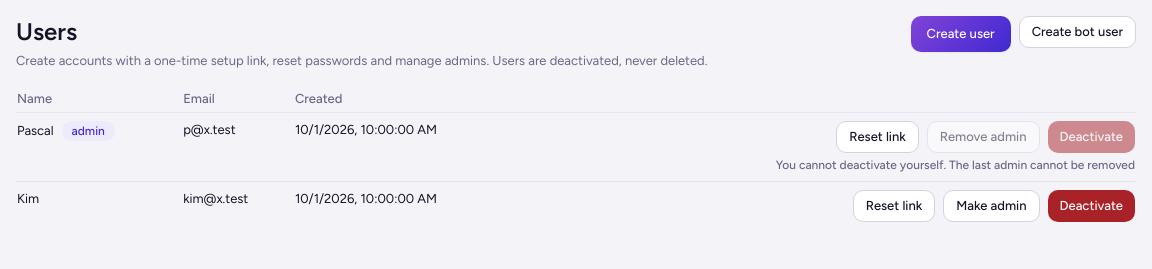
UsersView › shows a 403 clearly
The image size is (1152, 269).
Click the button with aria-label "Make admin Kim" at (991, 206), box [943, 190, 1040, 222]
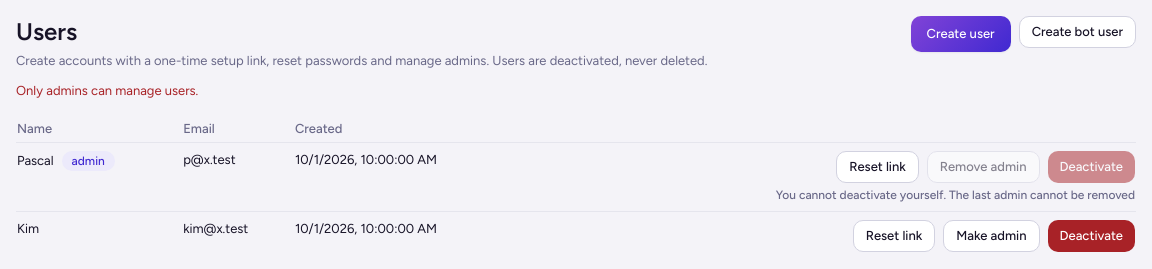
Expected: the message reads "Only admins can manage users.", [16, 83, 198, 98]
